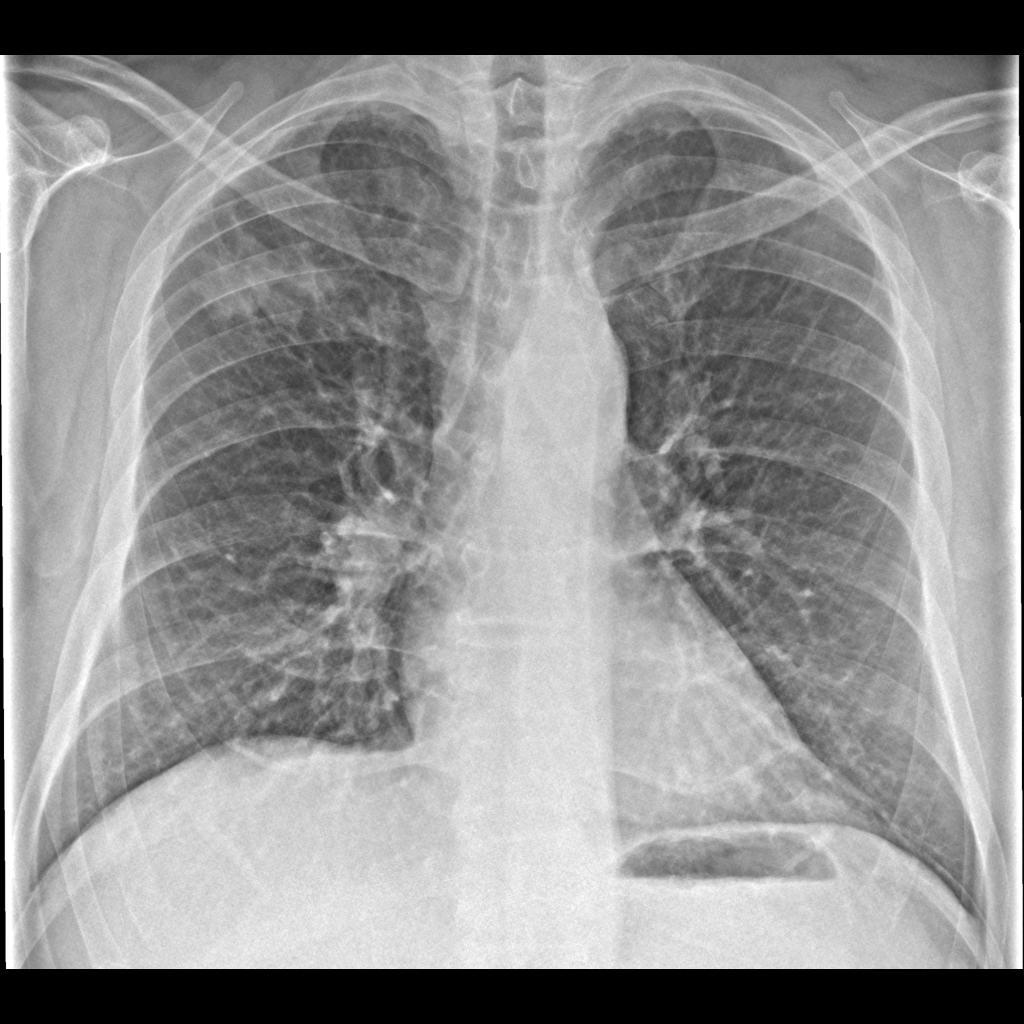Nodule: (199, 225, 337, 334)
